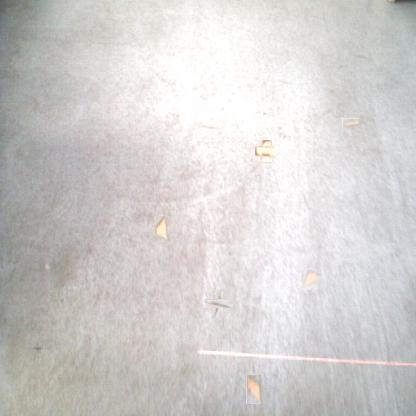dirty: (246, 374, 261, 404), (300, 270, 321, 290), (154, 216, 170, 242), (258, 143, 274, 159), (342, 118, 359, 127)
mark: (209, 294, 228, 313), (34, 343, 42, 352), (262, 108, 266, 116)
